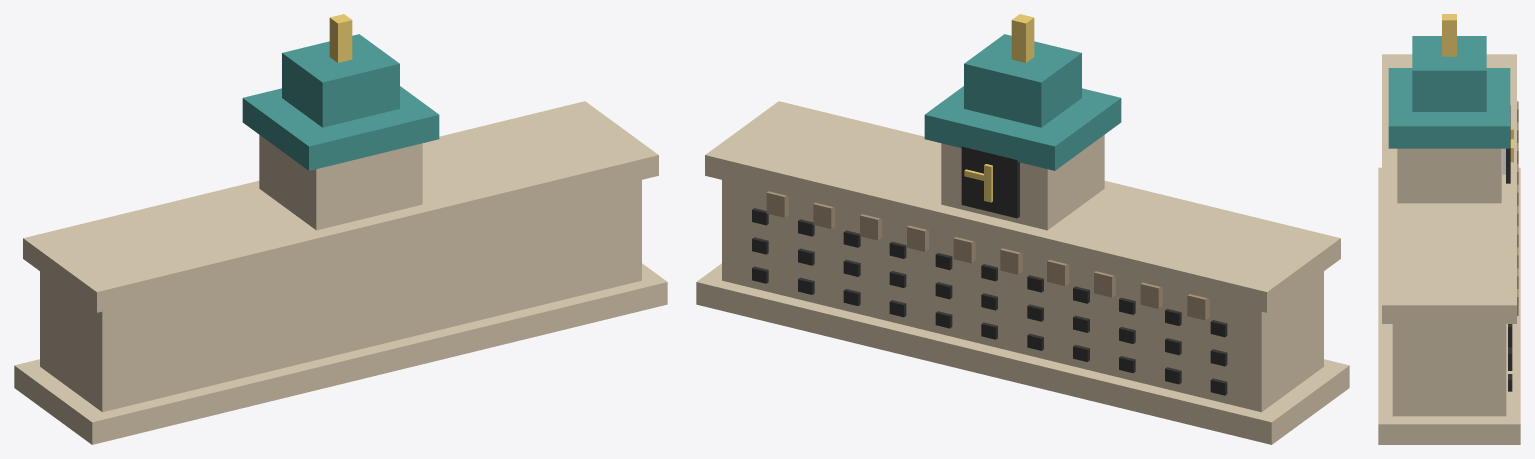
The model's file is voxel-shanghai-bund-clock-tower.gltf.
3 renders of one model, left to right at view 1: azimuth 30°, elevation 25°; view 2: azimuth 150°, elevation 25°; view 3: azimuth 270°, elevation 25°, orthographic. The views are drawn at different scales.
Bounding box in the file's own units: 6.4 × 3.48 × 1.5.
